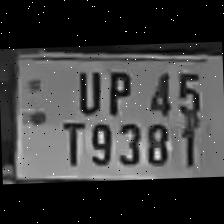1: (172, 119, 206, 166)
3: (112, 114, 142, 167)
4: (139, 66, 172, 116)
5: (170, 68, 204, 126)
8: (140, 116, 172, 166)
9: (84, 116, 112, 165)
P: (99, 64, 135, 114)
T: (54, 113, 86, 166)
U: (70, 64, 103, 112)
